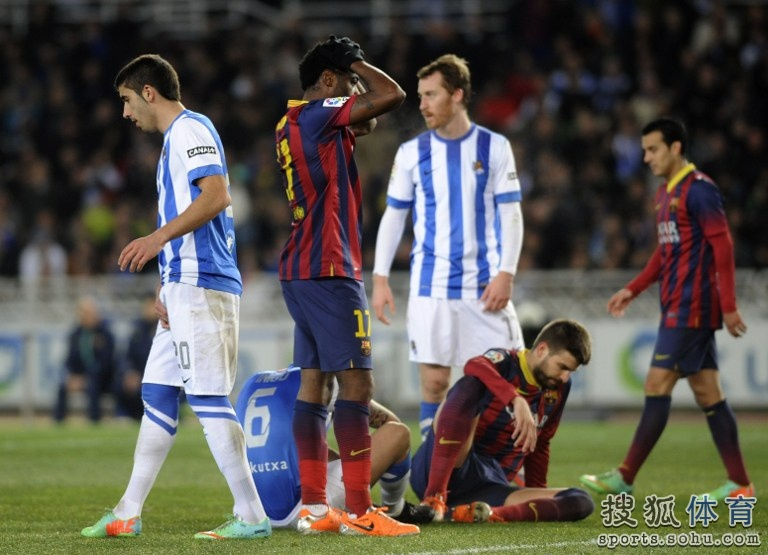falling: (185, 362, 439, 531)
